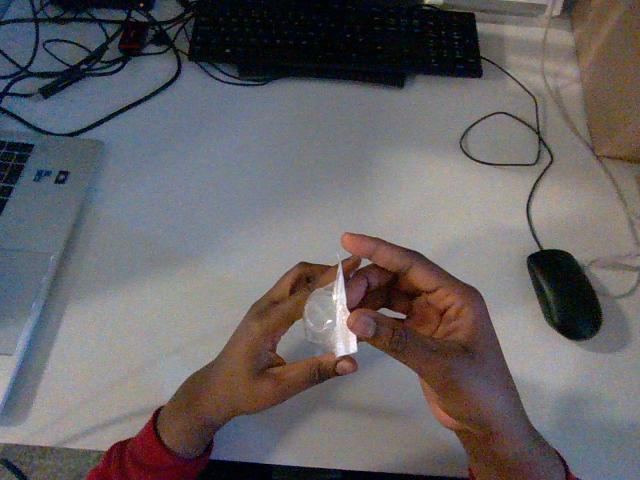syringe: (304, 263, 356, 356)
